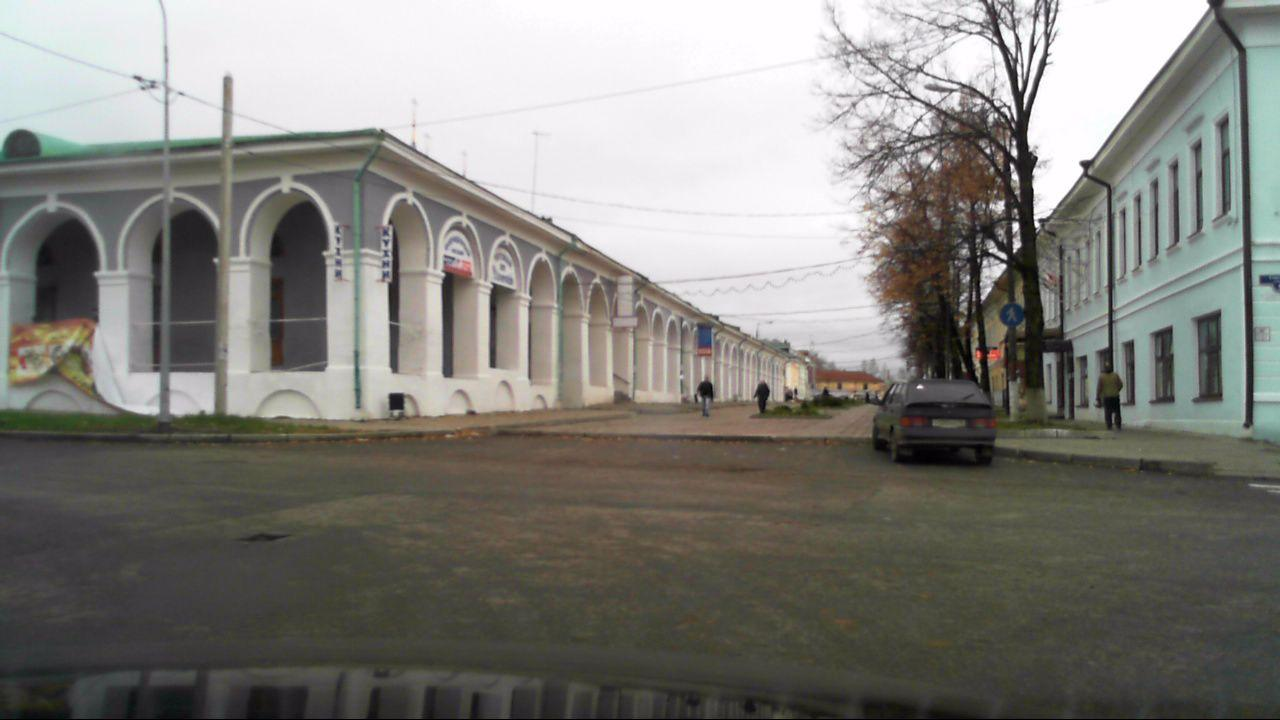4_5_1: (998, 302, 1024, 329)
